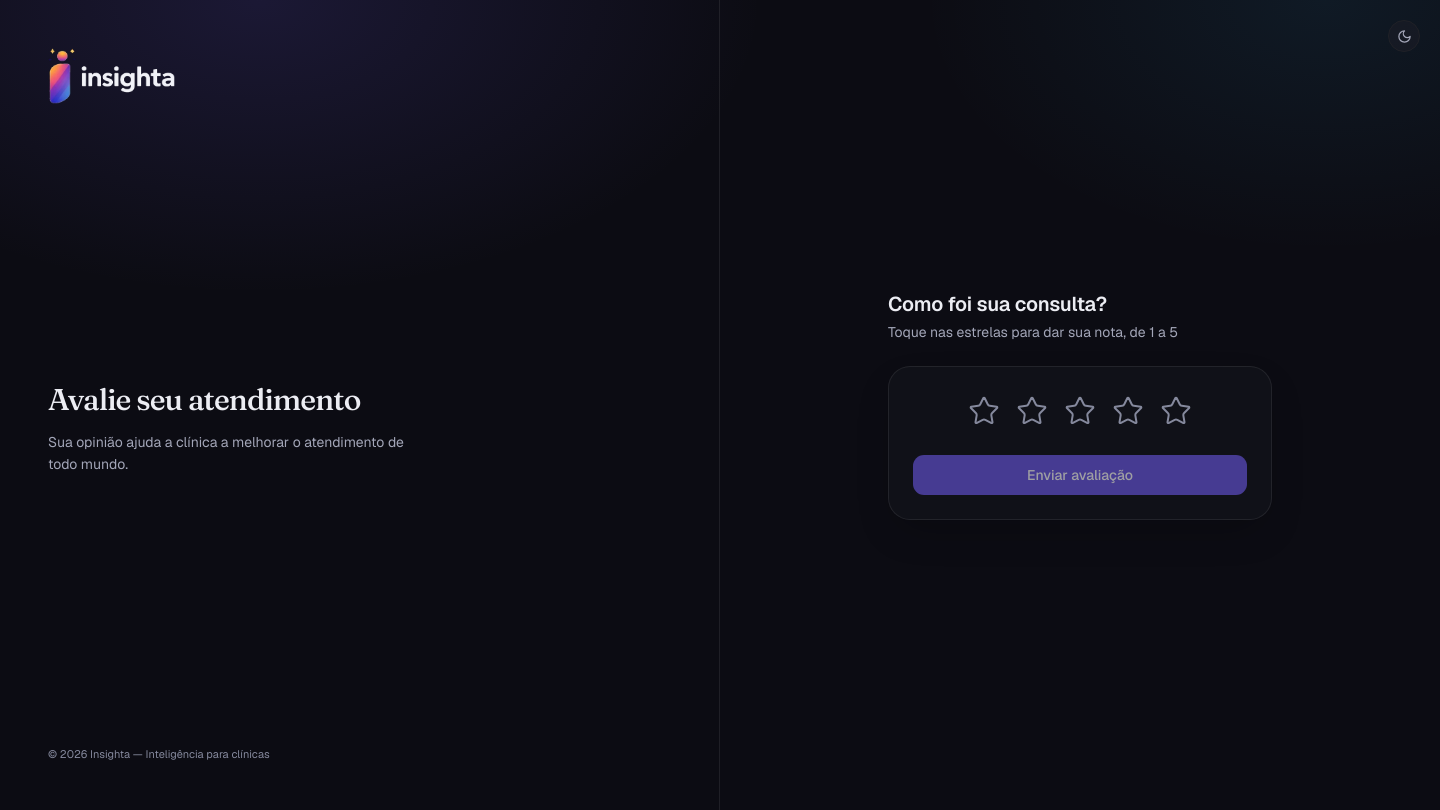
Test: SatisfactionRatingPage › mostra o formulário de estrelas quando o token é válido, e envia a nota escolhida
Check: the heading "Como foi sua consulta?" is shown, box top-left (888, 291), bottom-right (1107, 317)
Step 1. Click the radio button named "4 estrelas" → (1128, 411), box top-left (1108, 391), bottom-right (1148, 431)
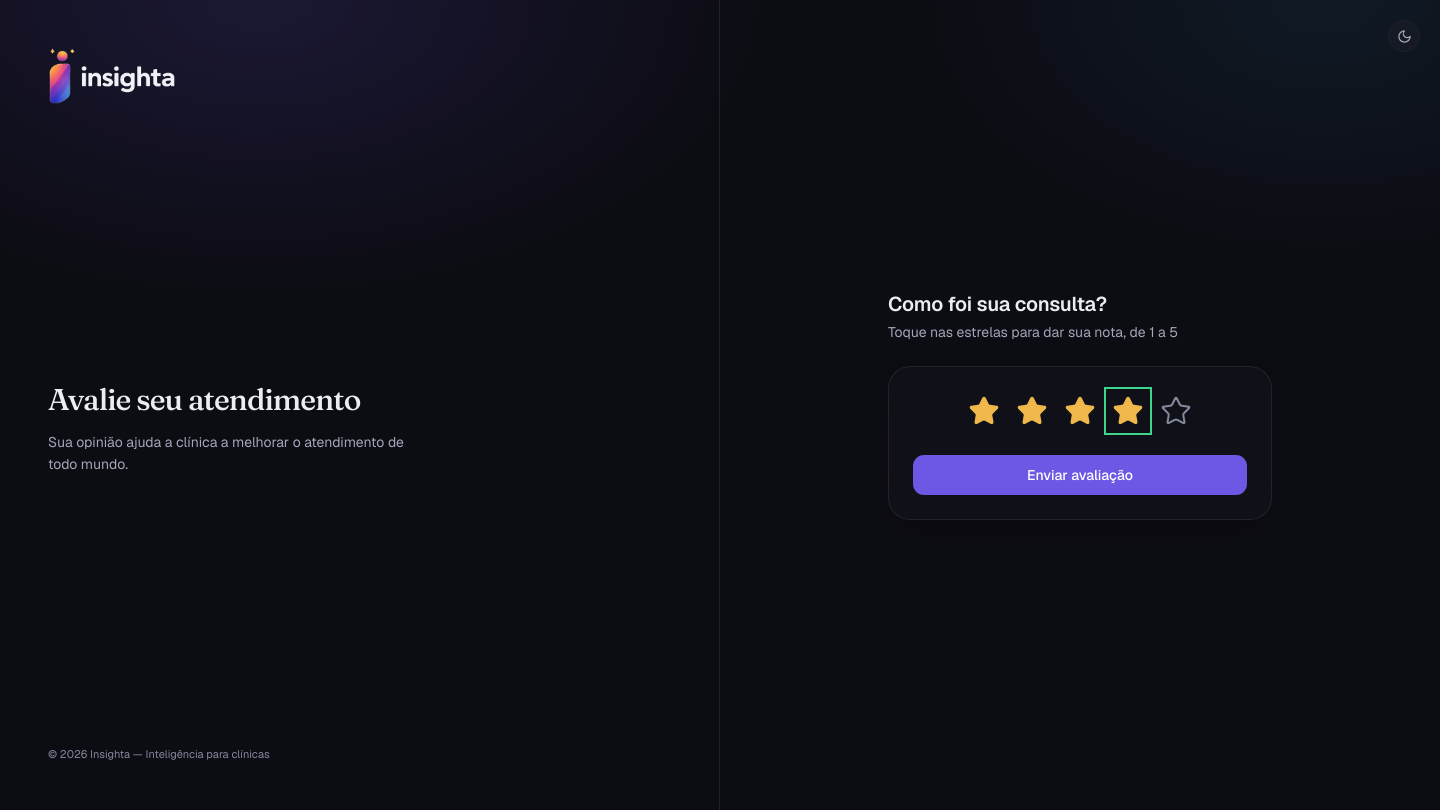
Step 2. Click the button "Enviar avaliação" → (1080, 475), box top-left (913, 455), bottom-right (1247, 495)
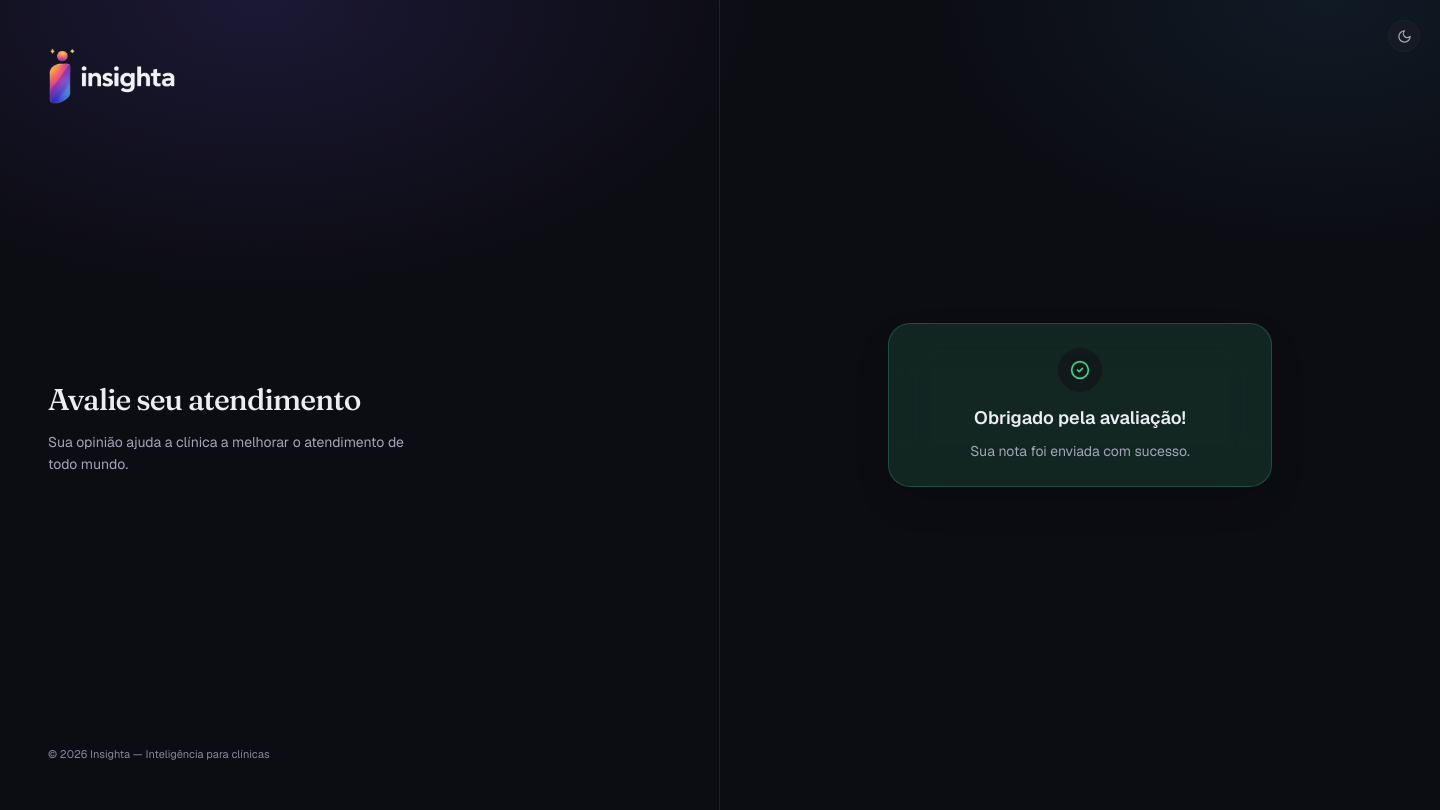
Check: the heading "Obrigado pela avaliação!" is shown, box top-left (974, 406), bottom-right (1186, 429)
